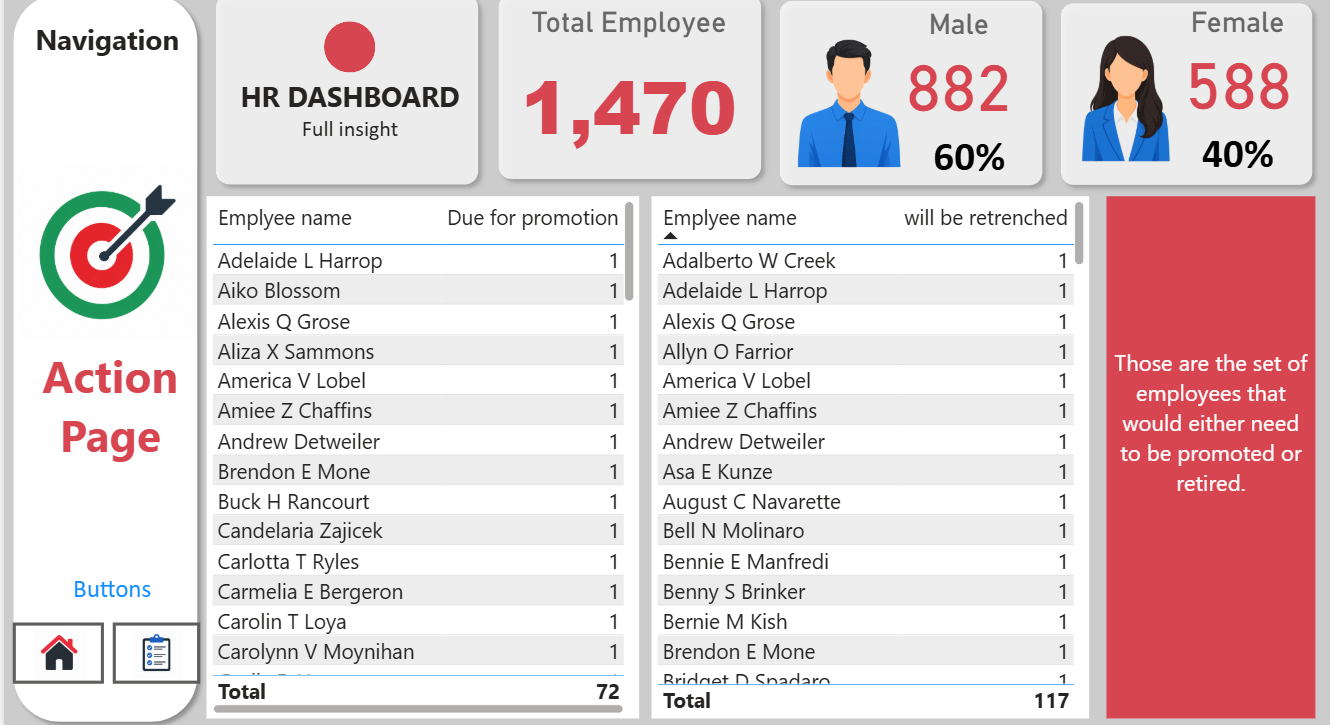

The page's visual inventory and layout, read from the dashboard file:
{"tool":"powerbi","page":{"name":"Action","canvas":[1280,720],"ordinal":2},"visuals":[{"type":"shape","box":[1011.3,8.2,260.7,193.5],"z":0},{"type":"shape","box":[739.6,5.5,271.7,196.2],"z":1000},{"type":"shape","box":[0,0,195.6,720.2],"z":2000},{"type":"shape","box":[195.6,0,271.2,201.5],"z":3000},{"type":"textbox","box":[213.4,84.4,240.7,54.6],"z":4000},{"type":"textbox","box":[213.4,120.3,240.7,39.7],"z":5000},{"type":"shape","box":[308.9,34.7,49.6,49.6],"z":6000},{"type":"card","title":"Male","fields":{"Values":["All Measures.Male"]},"box":[832.9,22,178.4,108.4],"z":7000},{"type":"card","fields":{"Values":["All Measures.% Female"]},"box":[1117,118,148.2,83.7],"z":8000},{"type":"shape","box":[467.9,0,271.7,196.2],"z":9000},{"type":"card","title":"Total Employee","fields":{"Values":["All Measures.Total Emp"]},"box":[477.5,19.2,251.1,157.8],"z":10000},{"type":"card","title":"Female","fields":{"Values":["All Measures.Female"]},"box":[1101.9,19.2,178.4,108.4],"z":11000},{"type":"card","fields":{"Values":["All Measures.% Male"]},"box":[858,121.1,148.2,83.7],"z":12000},{"type":"image","box":[974.8,0,216,202.7],"z":13000},{"type":"image","box":[709.4,0,212.3,230.4],"z":14000},{"type":"tableEx","fields":{"Values":["HR employee data.Emplyee name","All Measures.will be retrenched"]},"box":[624.9,203.9,422.3,504.3],"z":15000},{"type":"tableEx","fields":{"Values":["HR employee data.Emplyee name","All Measures.Due for promotion"]},"box":[195.4,203.9,417.4,504.3],"z":16000},{"type":"textbox","box":[1064.1,203.9,201.5,504.3],"z":16001},{"type":"textbox","box":[9.7,342.6,185.8,126.7],"z":16004},{"type":"image","box":[14.5,620.1,77.2,50.7],"z":16005},{"type":"image","box":[117,621.3,60.3,48.3],"z":16006},{"type":"actionButton","box":[8.4,615.3,88.1,59.1],"z":16007},{"type":"actionButton","box":[105,615.3,84.5,59.1],"z":16008},{"type":"textbox","box":[0,562.2,208.7,39.8],"z":16009},{"type":"textbox","box":[9.7,29,179.8,55.5],"z":16010},{"type":"image","box":[14.5,156.8,168.9,202.7],"z":16011}]}

Visuals, with their boxes on the page's 1280x720 design canvas (x1, y1, x2, y2). These are canvas units, not pixel positions in the 1330x725 screenshot, which may show the page scaled, cropped or inside an application window:
shape: (x1=1011, y1=8, x2=1272, y2=202)
shape: (x1=740, y1=6, x2=1011, y2=202)
shape: (x1=0, y1=0, x2=196, y2=720)
shape: (x1=196, y1=0, x2=467, y2=202)
textbox: (x1=213, y1=84, x2=454, y2=139)
textbox: (x1=213, y1=120, x2=454, y2=160)
shape: (x1=309, y1=35, x2=358, y2=84)
"Male" card: (x1=833, y1=22, x2=1011, y2=130)
card - All Measures.% Female: (x1=1117, y1=118, x2=1265, y2=202)
shape: (x1=468, y1=0, x2=740, y2=196)
"Total Employee" card: (x1=478, y1=19, x2=729, y2=177)
"Female" card: (x1=1102, y1=19, x2=1280, y2=128)
card - All Measures.% Male: (x1=858, y1=121, x2=1006, y2=205)
image: (x1=975, y1=0, x2=1191, y2=203)
image: (x1=709, y1=0, x2=922, y2=230)
tableEx - HR employee data.Emplyee name x All Measures.will be retrenched: (x1=625, y1=204, x2=1047, y2=708)
tableEx - HR employee data.Emplyee name x All Measures.Due for promotion: (x1=195, y1=204, x2=613, y2=708)
textbox: (x1=1064, y1=204, x2=1266, y2=708)
textbox: (x1=10, y1=343, x2=196, y2=469)
image: (x1=14, y1=620, x2=92, y2=671)
image: (x1=117, y1=621, x2=177, y2=670)
actionButton: (x1=8, y1=615, x2=96, y2=674)
actionButton: (x1=105, y1=615, x2=190, y2=674)
textbox: (x1=0, y1=562, x2=209, y2=602)
textbox: (x1=10, y1=29, x2=190, y2=84)
image: (x1=14, y1=157, x2=183, y2=360)
